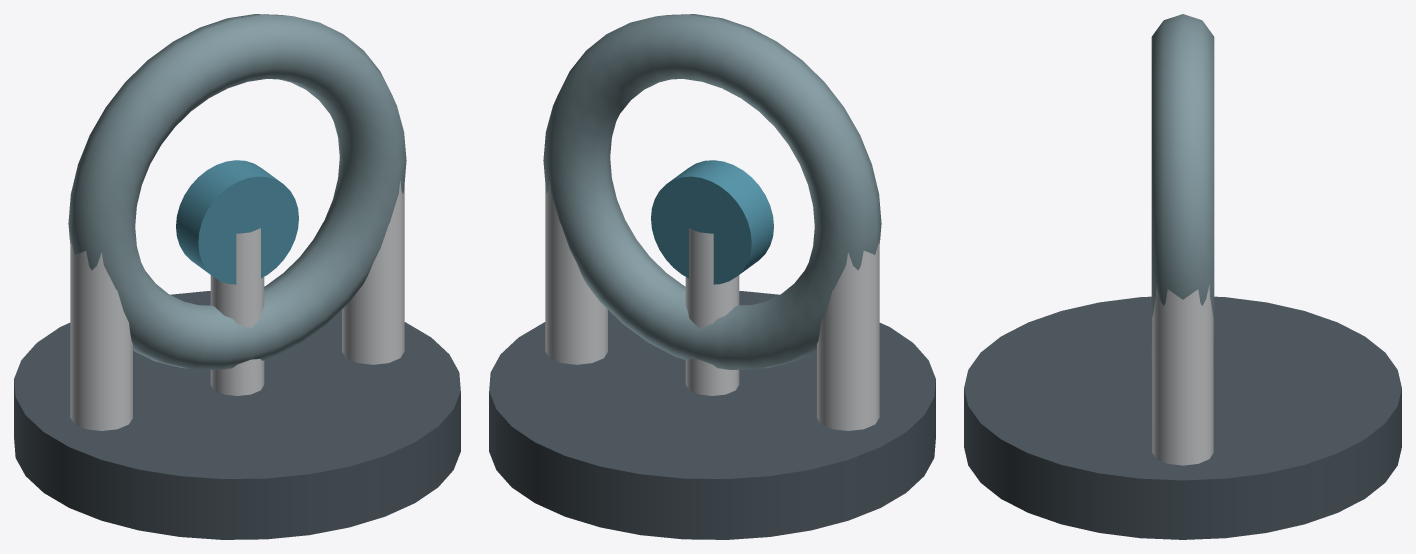
3 views of the same model, side by side, from view 1: azimuth 30°, elevation 25°; view 2: azimuth 150°, elevation 25°; view 3: azimuth 270°, elevation 25° (orthographic). The views are drawn at different scales.
Visible parts, largest first — view 1: cloak-emitter; view 2: cloak-emitter; view 3: cloak-emitter.
Boxes of the visible parts, x1=… form: cloak-emitter: x1=14, y1=14, x2=460, y2=539; cloak-emitter: x1=489, y1=14, x2=935, y2=539; cloak-emitter: x1=964, y1=14, x2=1401, y2=539.
Bounding box in the file's own units: 1 × 1.05 × 1.
